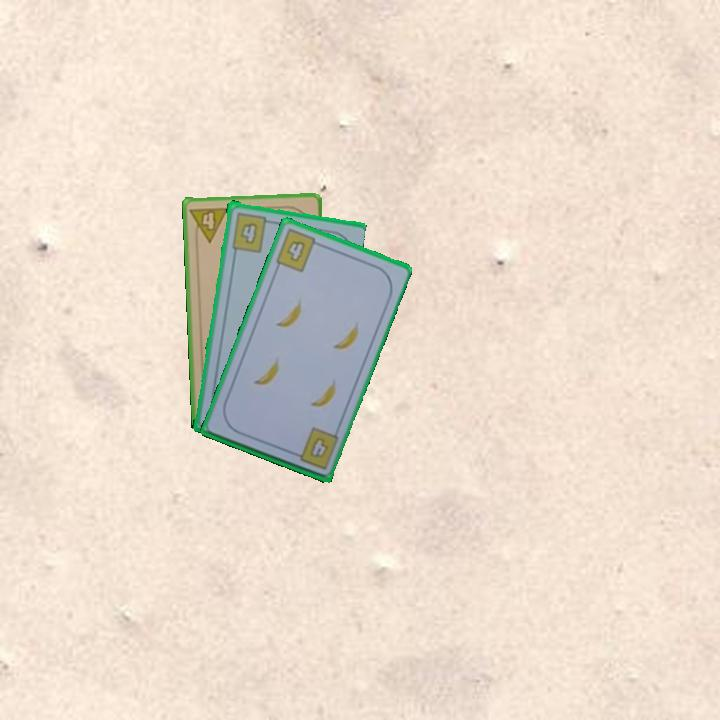4b: (272, 225, 324, 275), (288, 424, 341, 472), (228, 209, 275, 254)
4p: (187, 204, 231, 245)
